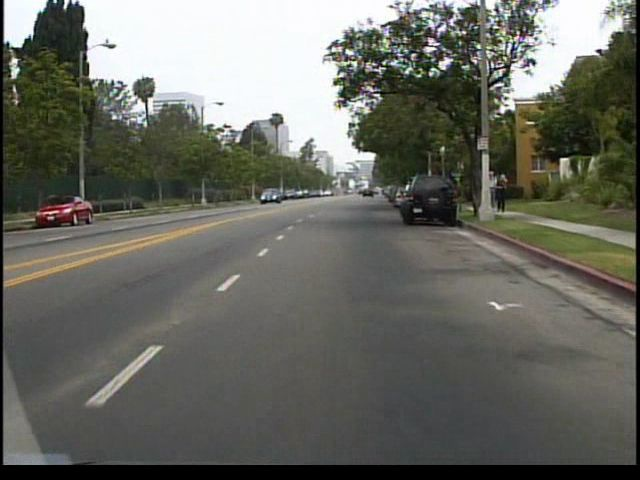person: (493, 172, 510, 216), (488, 166, 498, 212)
